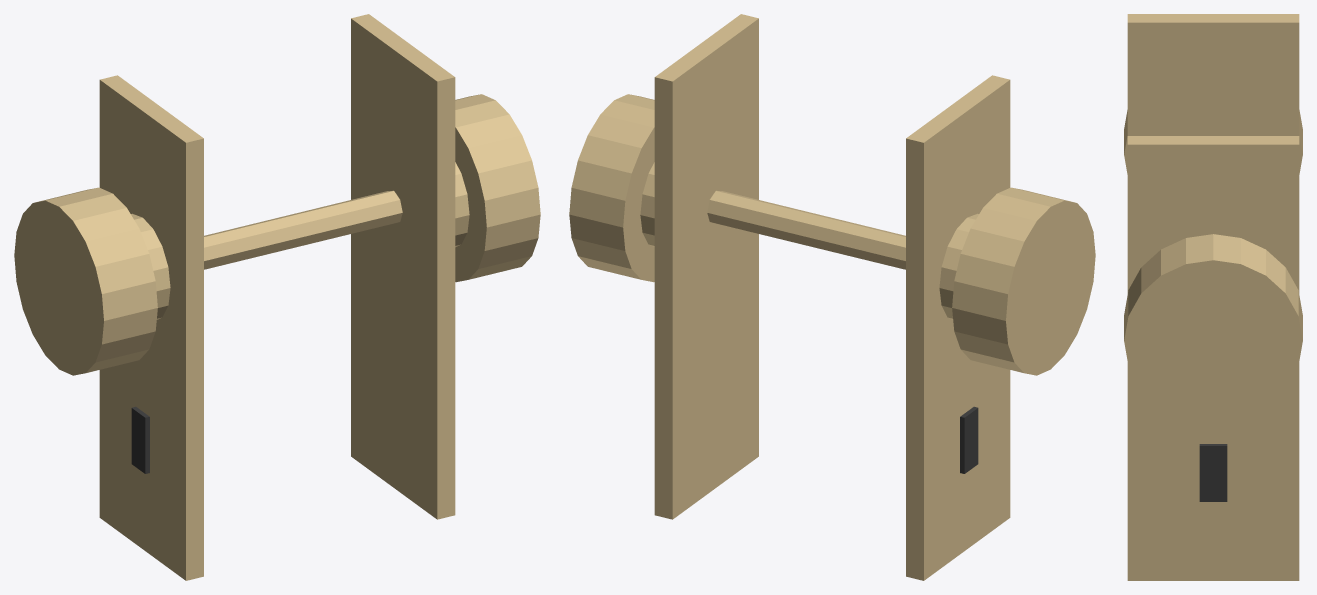
The model's file is dm_doorknob.glb.
3 views of the same model, side by side, from view 1: azimuth 30°, elevation 25°; view 2: azimuth 150°, elevation 25°; view 3: azimuth 270°, elevation 25° (orthographic).
Parts seen in each view (by area): view 1: dm_doorknob; view 2: dm_doorknob; view 3: dm_doorknob.
Part boxes in pixels (<box>): dm_doorknob: <box>14,14,540,580</box>; dm_doorknob: <box>569,14,1095,580</box>; dm_doorknob: <box>1124,14,1302,580</box>.
Size of the model in its own units: 0.146 by 0.14 by 0.052.
